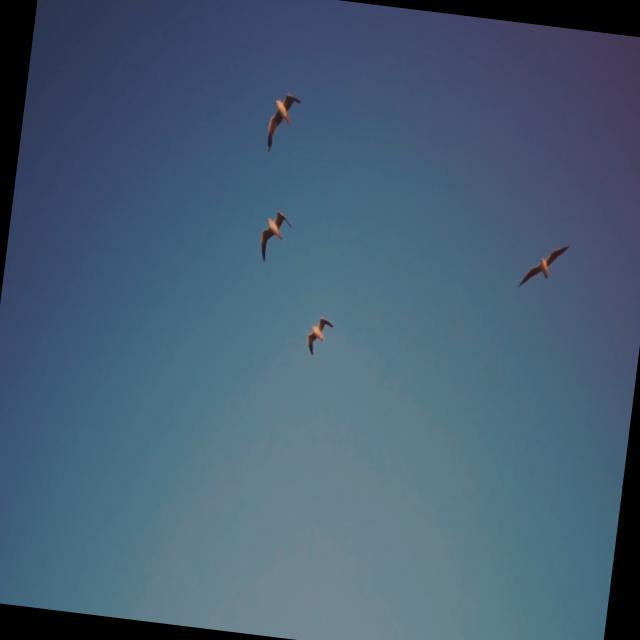bird: (515, 237, 572, 297), (263, 88, 306, 156), (253, 205, 296, 267), (303, 311, 336, 363)
